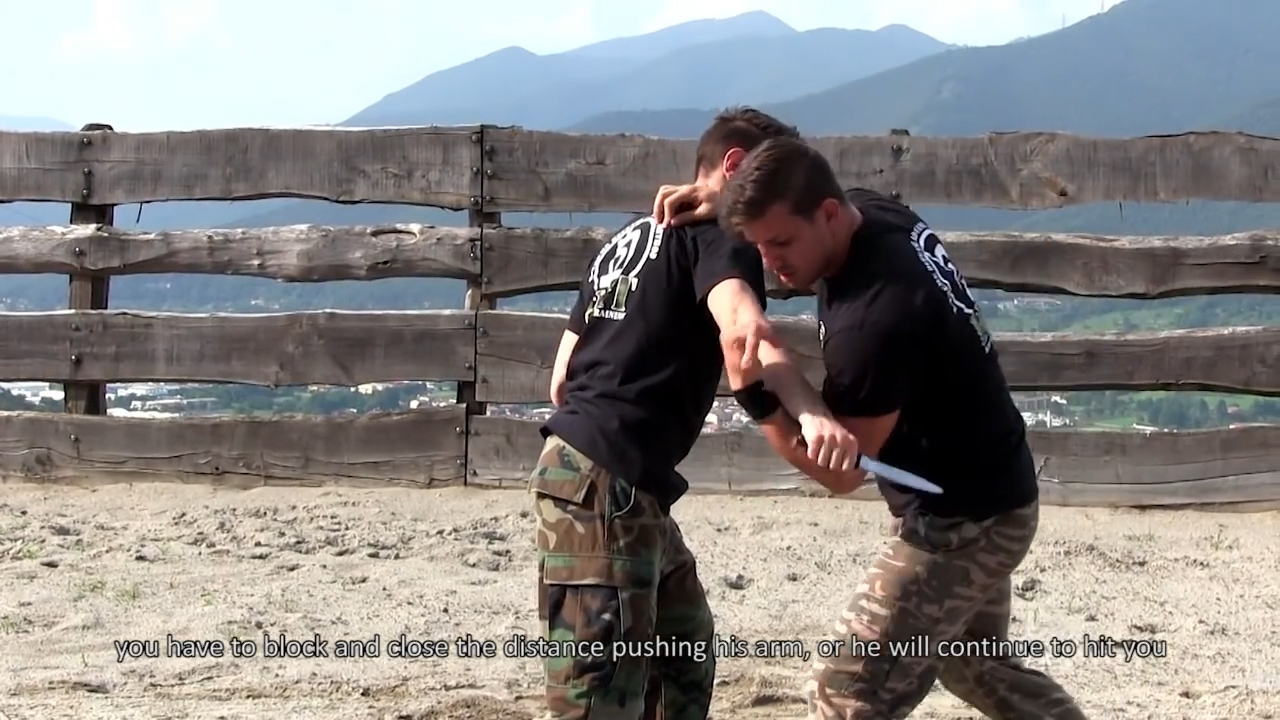knife: (792, 419, 954, 506)
